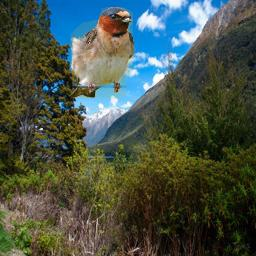Swallow: (69, 7, 136, 98)
